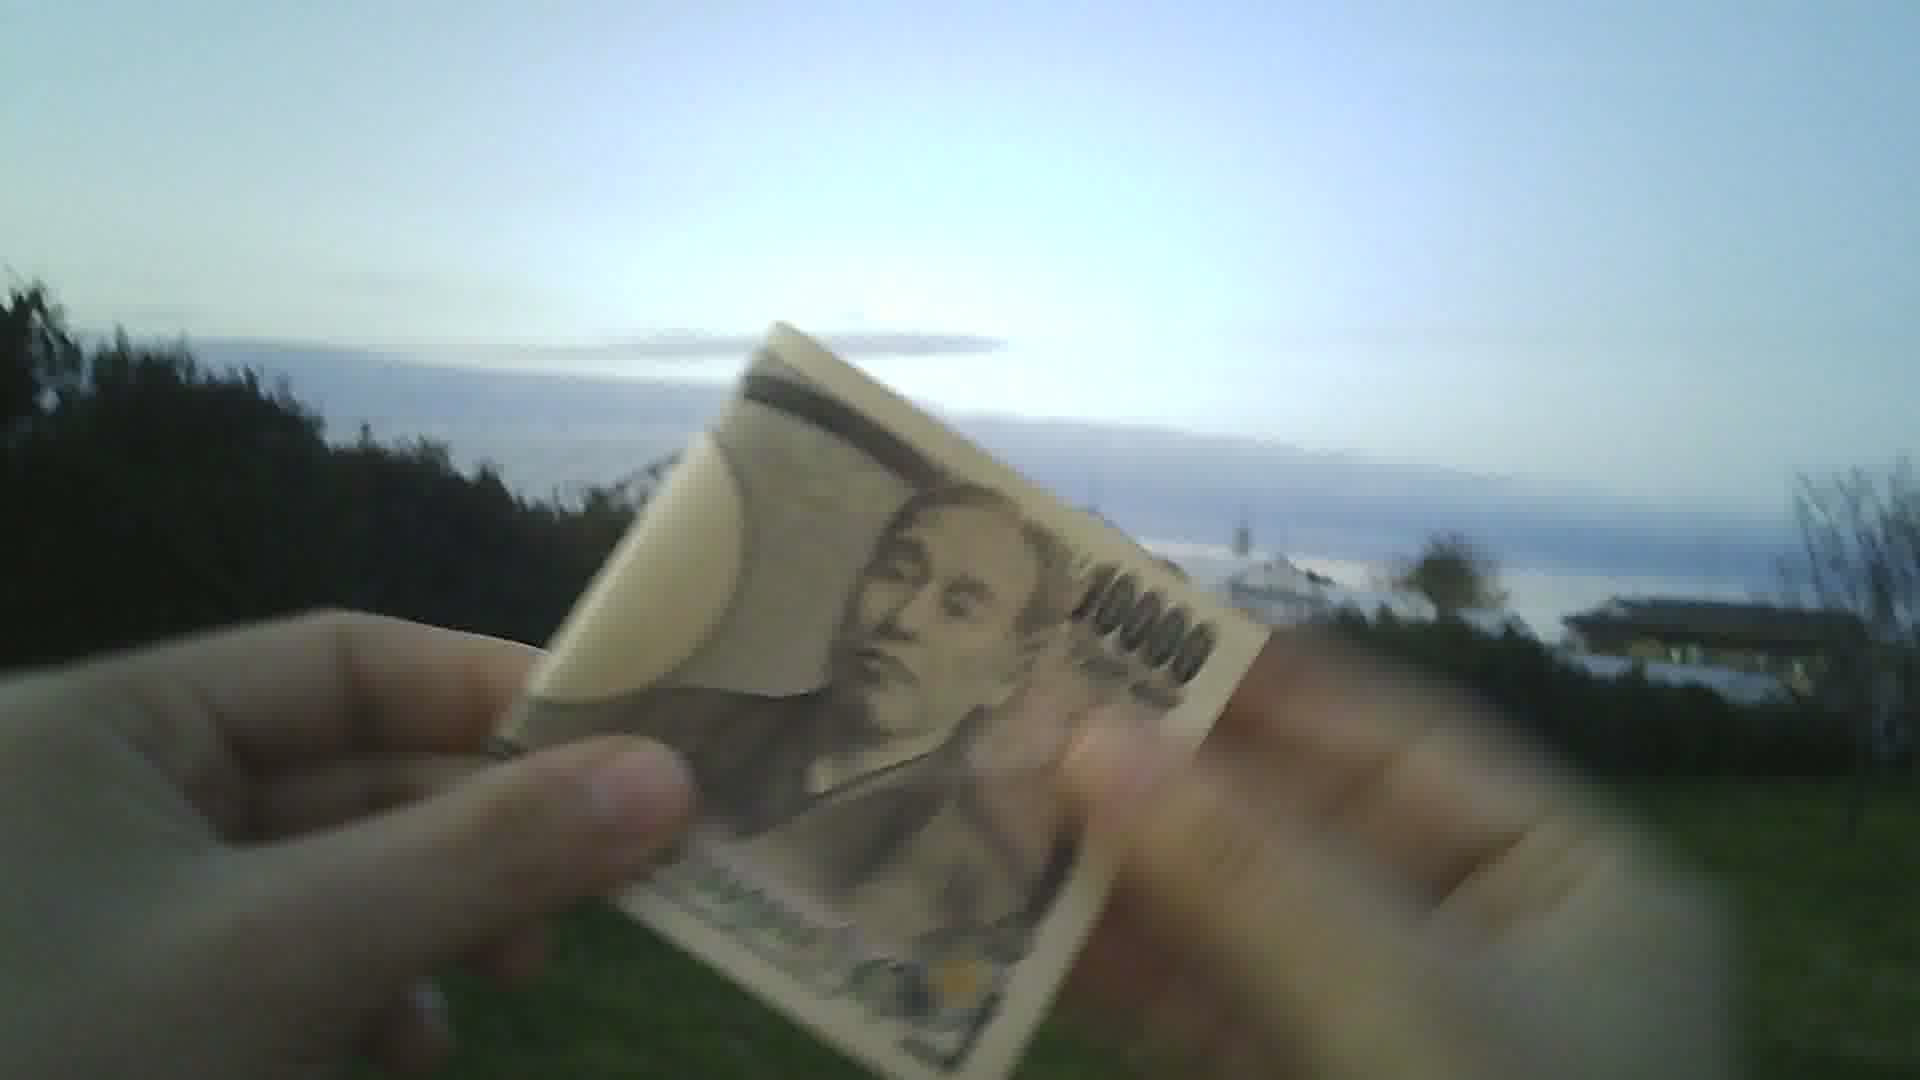10,000 Yen: (433, 302, 1283, 1079)
